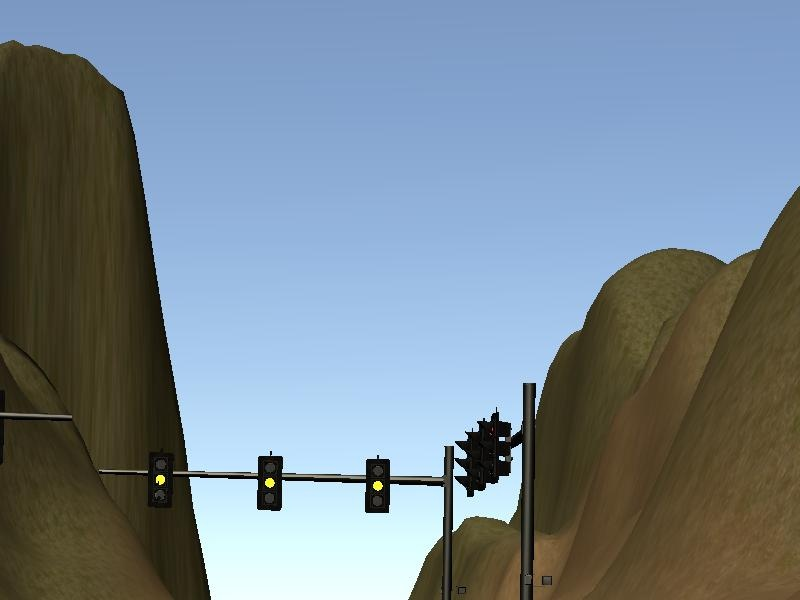yellow: (252, 447, 288, 514), (144, 442, 179, 510), (362, 453, 396, 521)
